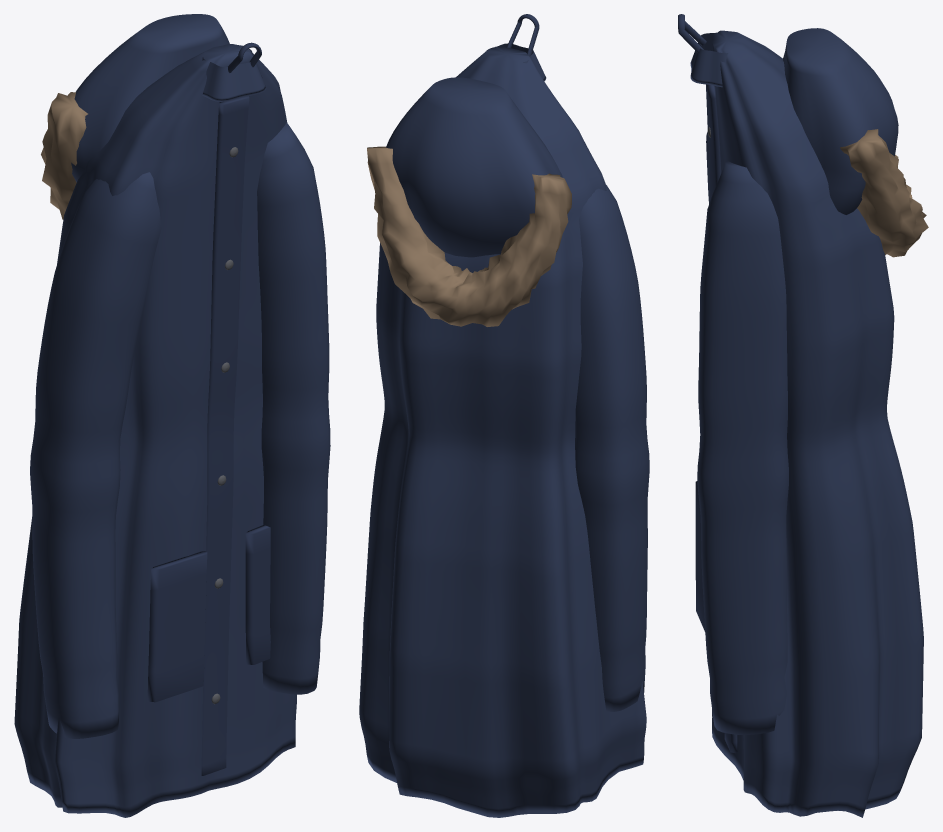
File: parka_v2.glb
3 renders of one model, left to right at view 1: azimuth 30°, elevation 25°; view 2: azimuth 150°, elevation 25°; view 3: azimuth 270°, elevation 25°, orthographic. The views are drawn at different scales.
Visible parts, largest first — view 1: Parka_Body, Parka_Sleeve_L, Parka_Sleeve_R, Parka_Storm_Placket_WallSide, Parka_Pockets_WallSide, Parka_Hood, Parka_Fur_Trim, Parka_Collar; view 2: Parka_Body, Parka_Sleeve_L, Parka_Hood, Parka_Fur_Trim; view 3: Parka_Body, Parka_Sleeve_R, Parka_Hood, Parka_Fur_Trim, Parka_Storm_Placket_WallSide, Parka_Collar, Parka_Pockets_WallSide, Parka_Hanging_Loop.
Boxes of the visible parts, bbox=[...] form: Parka_Body: bbox=[14, 44, 296, 817]; Parka_Sleeve_L: bbox=[30, 172, 161, 738]; Parka_Sleeve_R: bbox=[257, 122, 330, 694]; Parka_Storm_Placket_WallSide: bbox=[201, 96, 249, 775]; Parka_Pockets_WallSide: bbox=[147, 525, 270, 702]; Parka_Hood: bbox=[71, 14, 229, 182]; Parka_Fur_Trim: bbox=[41, 92, 87, 219]; Parka_Collar: bbox=[202, 48, 266, 101]; Parka_Body: bbox=[359, 46, 646, 817]; Parka_Sleeve_L: bbox=[575, 184, 649, 711]; Parka_Hood: bbox=[386, 77, 562, 257]; Parka_Fur_Trim: bbox=[367, 146, 571, 326]; Parka_Body: bbox=[709, 30, 923, 817]; Parka_Sleeve_R: bbox=[697, 161, 788, 734]; Parka_Hood: bbox=[783, 28, 898, 214]; Parka_Fur_Trim: bbox=[840, 129, 928, 257]; Parka_Storm_Placket_WallSide: bbox=[706, 84, 737, 753]; Parka_Collar: bbox=[690, 32, 728, 87]; Parka_Pockets_WallSide: bbox=[695, 481, 705, 631]; Parka_Hanging_Loop: bbox=[678, 14, 706, 52].
Size of the model in its own units: 0.3197 by 0.9122 by 0.265.
